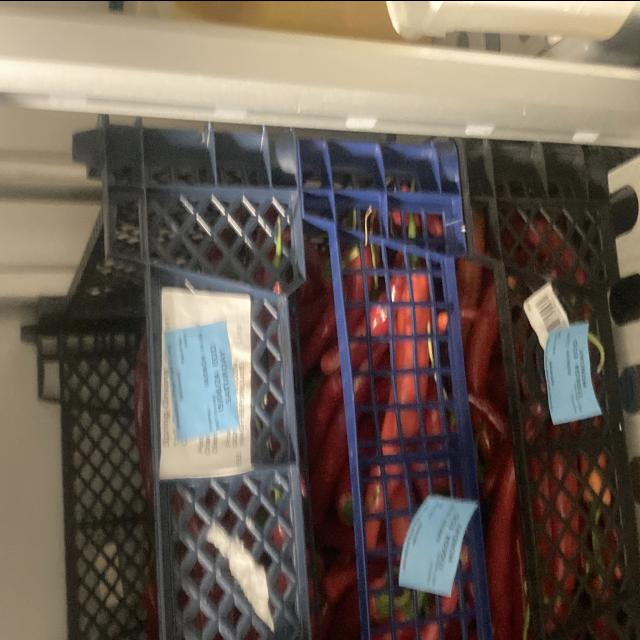product-labels: (162, 319, 241, 440), (394, 486, 477, 595), (537, 321, 604, 423)
